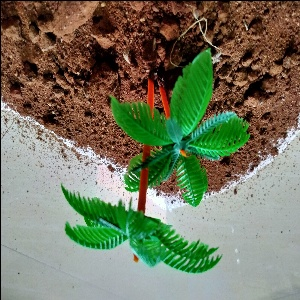plant: (63, 51, 253, 276)
